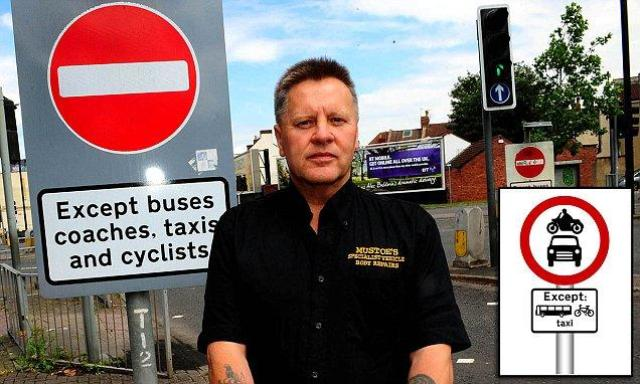B2: (50, 2, 198, 154), (516, 146, 546, 178)
